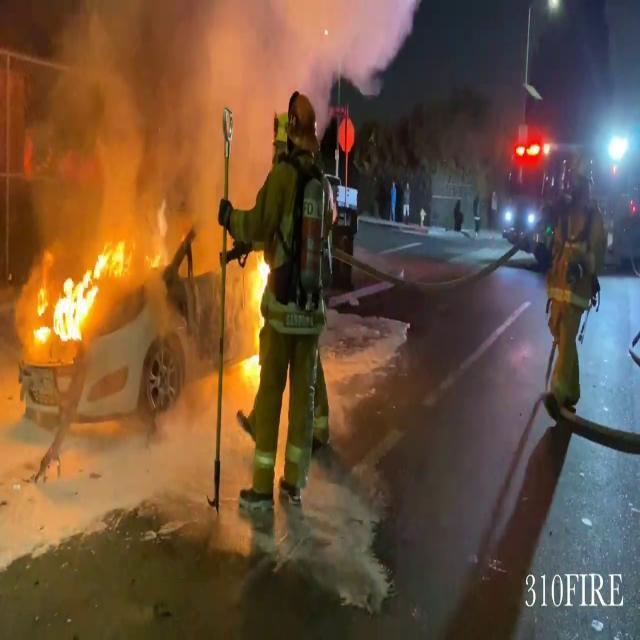Fire: (28, 232, 128, 346), (237, 244, 271, 397)
Smoke: (1, 0, 293, 241)
